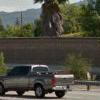Car: (2, 55, 78, 97)
